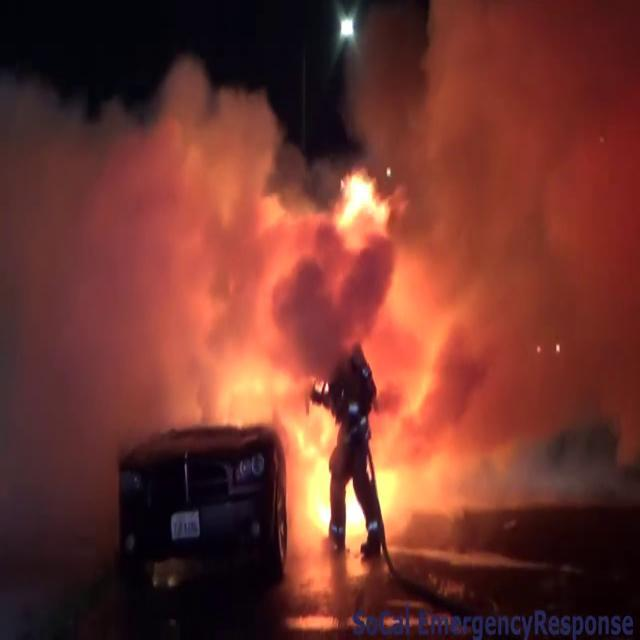Fire: (0, 44, 462, 561)
Smoke: (399, 0, 640, 502)
